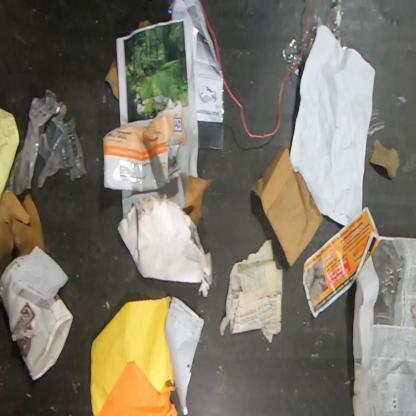cardboard: (117, 193, 214, 297), (0, 254, 74, 380), (251, 145, 323, 267), (102, 110, 192, 191), (0, 189, 44, 269), (0, 108, 20, 208), (183, 174, 215, 229), (369, 137, 400, 179), (105, 58, 119, 100)
rigid_plastic: (8, 88, 86, 196)
soft_plastic: (169, 0, 224, 150), (282, 0, 345, 76)
